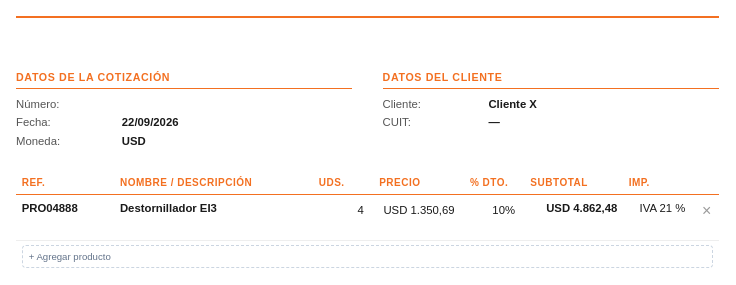
La hoja como editor › la cantidad se ve como número y sólo al tocarla aparece el campo
Click the button named "Cantidad: 4" at (343, 211), box [319,201,368,220]
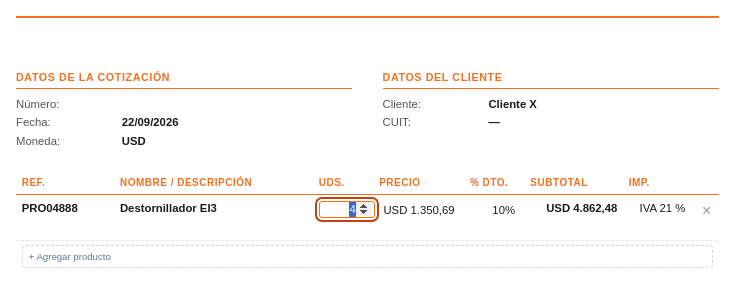
Replace the text in the number field named "Cantidad" with "7" at (347, 210), box [319,201,375,218]
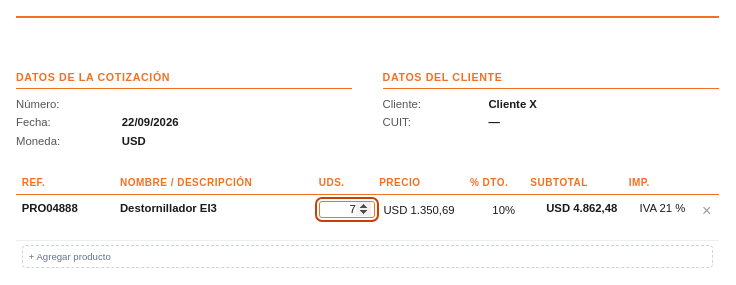
Press Enter in the number field named "Cantidad", box [319,201,375,218]
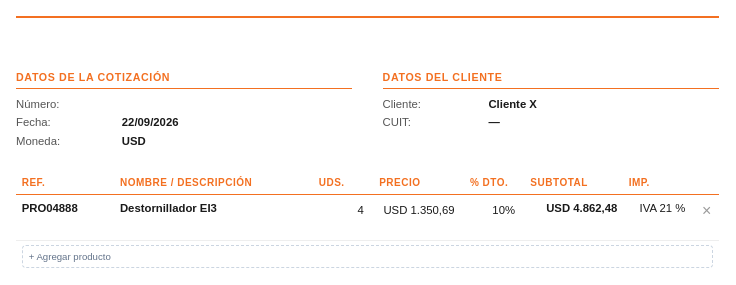
expect no number fields are shown: met
